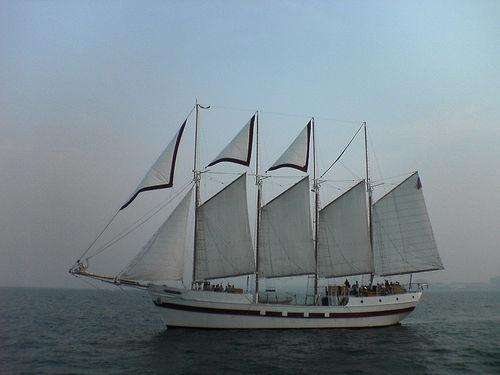Ship: (67, 99, 443, 334)
